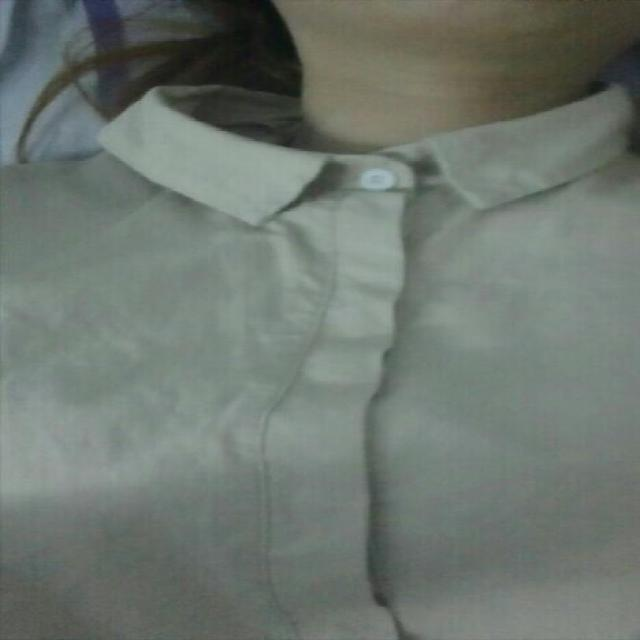long-sleeve-top: (13, 98, 640, 636)
